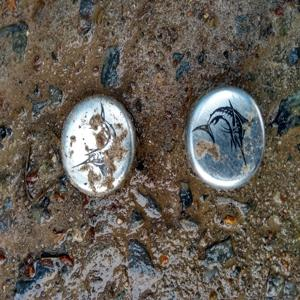metal: (58, 94, 140, 196), (187, 86, 267, 188)
